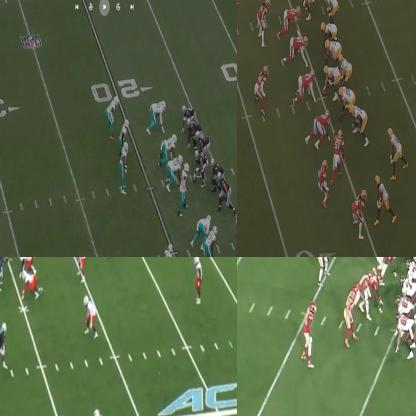CENTER: (323, 63, 338, 100), (192, 150, 205, 183)
DB: (302, 301, 316, 369), (354, 191, 367, 236), (84, 294, 98, 332), (194, 257, 205, 305), (319, 160, 329, 201), (107, 97, 118, 131), (205, 225, 217, 256), (162, 243, 173, 256)
LB: (332, 128, 344, 178), (118, 143, 128, 196), (256, 67, 267, 115), (257, 0, 268, 44), (76, 257, 89, 281), (120, 120, 130, 150), (317, 257, 331, 278)
QB: (338, 56, 352, 82)
SKILL: (355, 264, 373, 322), (394, 312, 416, 357), (376, 176, 394, 220), (391, 130, 406, 170), (396, 294, 415, 314), (0, 325, 7, 370), (347, 287, 353, 339), (181, 103, 195, 125), (322, 0, 339, 18), (301, 0, 314, 15)
